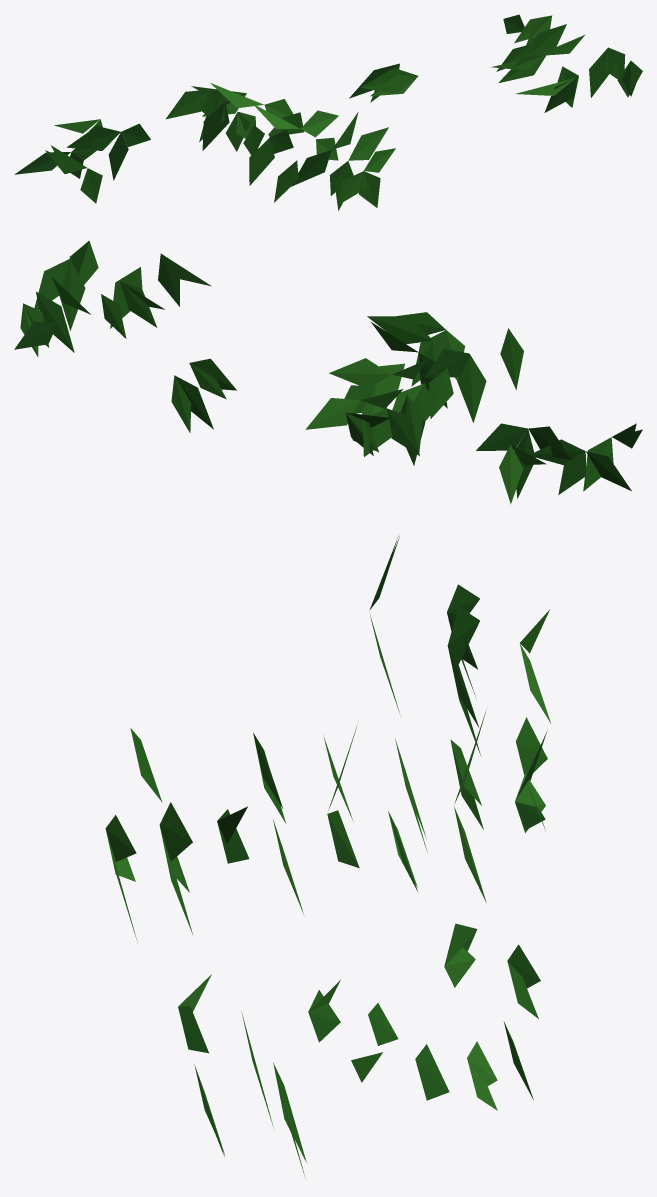
3 renders of one model, top to bottom at view 1: azimuth 30°, elevation 25°; view 2: azimuth 150°, elevation 25°; view 3: azimuth 270°, elevation 25°, orthographic. The views are drawn at different scales.
Parts seen in each view (by area): view 1: r8c2_l11; view 2: r8c2_l11; view 3: r8c2_l11.
Part boxes in pixels (x1,y1,x2,y2): r8c2_l11: (14,14,642,210); r8c2_l11: (14,240,642,504); r8c2_l11: (105,535,550,1178).
Bounding box in the file's own units: 1.81 × 0.2715 × 0.6176.
